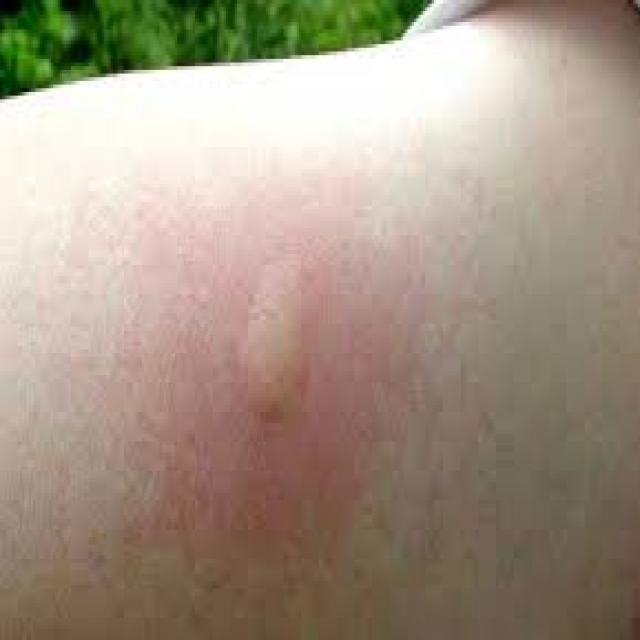sinek: (202, 256, 354, 482)
